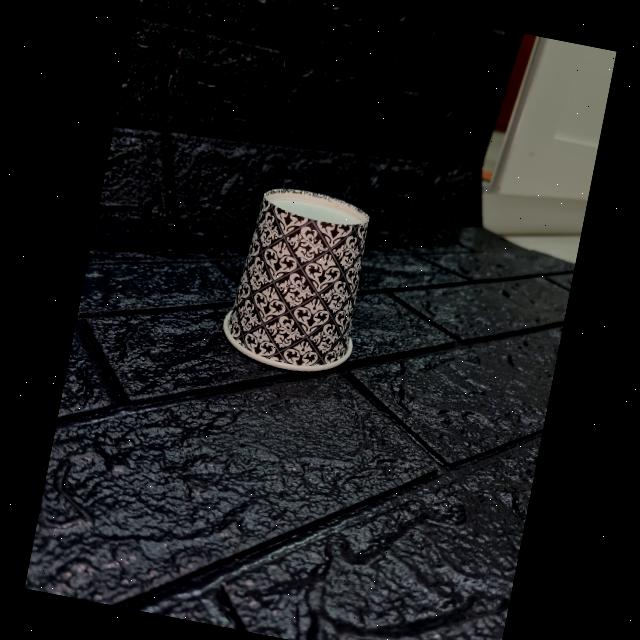trash: (210, 172, 380, 380)
